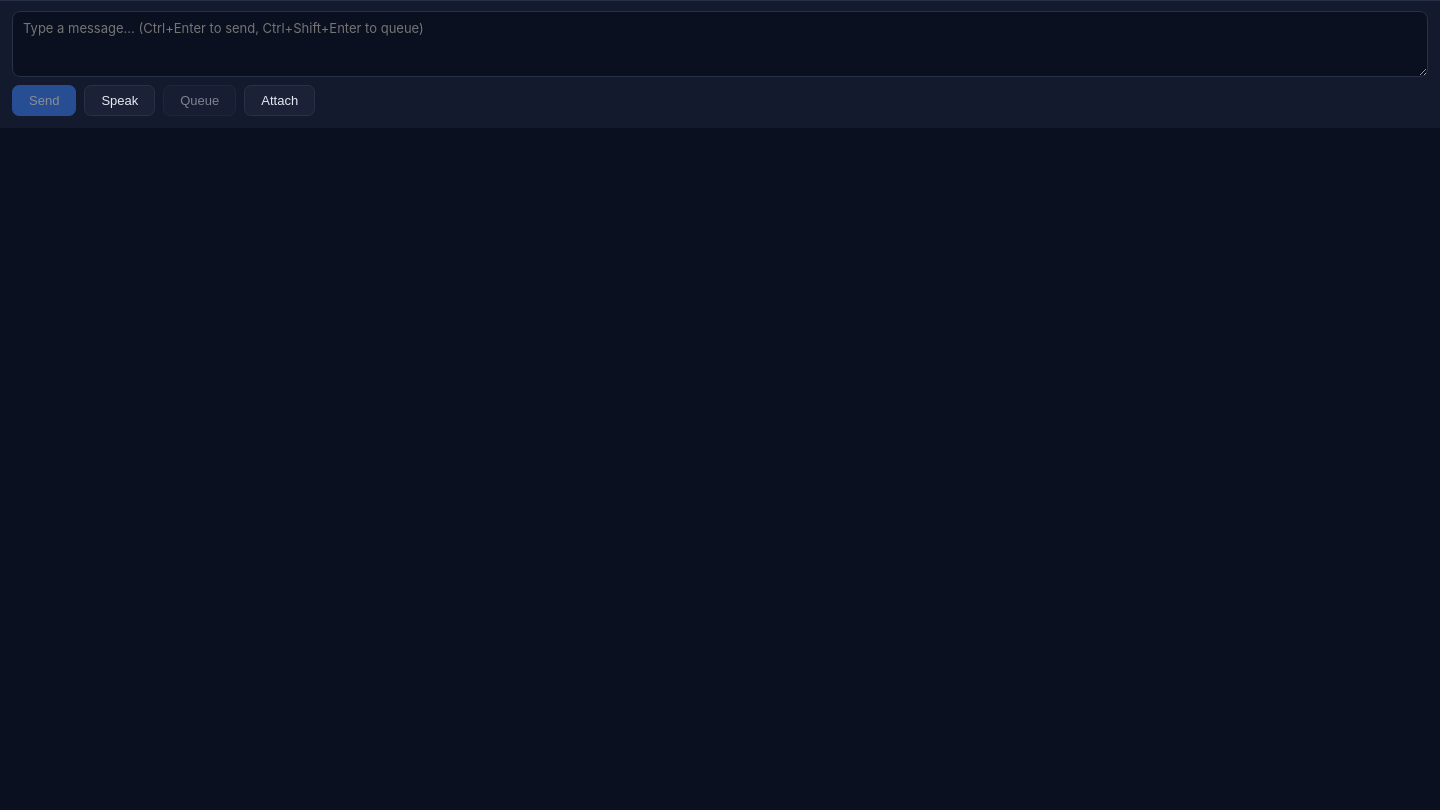
Cockpit Speak Send-direct (recording-stage) › hands the captured audio to the background pipeline with the typed text split at the caret, and releases the screen at once
Replace the text in the text box with placeholder "Type a message" with "AB" at (720, 44), box [12, 11, 1428, 77]
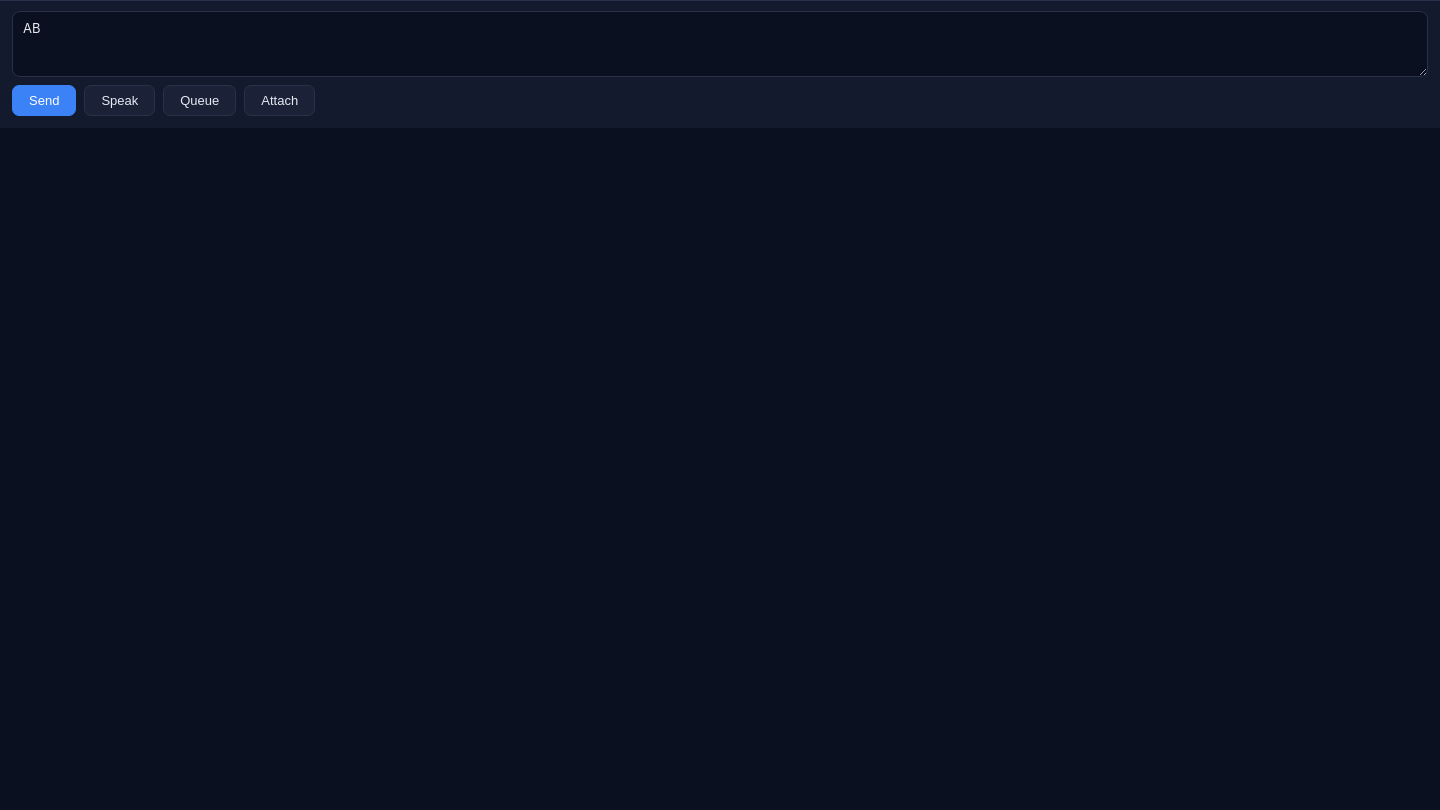
Click the button "Speak" at (120, 100), box [84, 85, 155, 116]
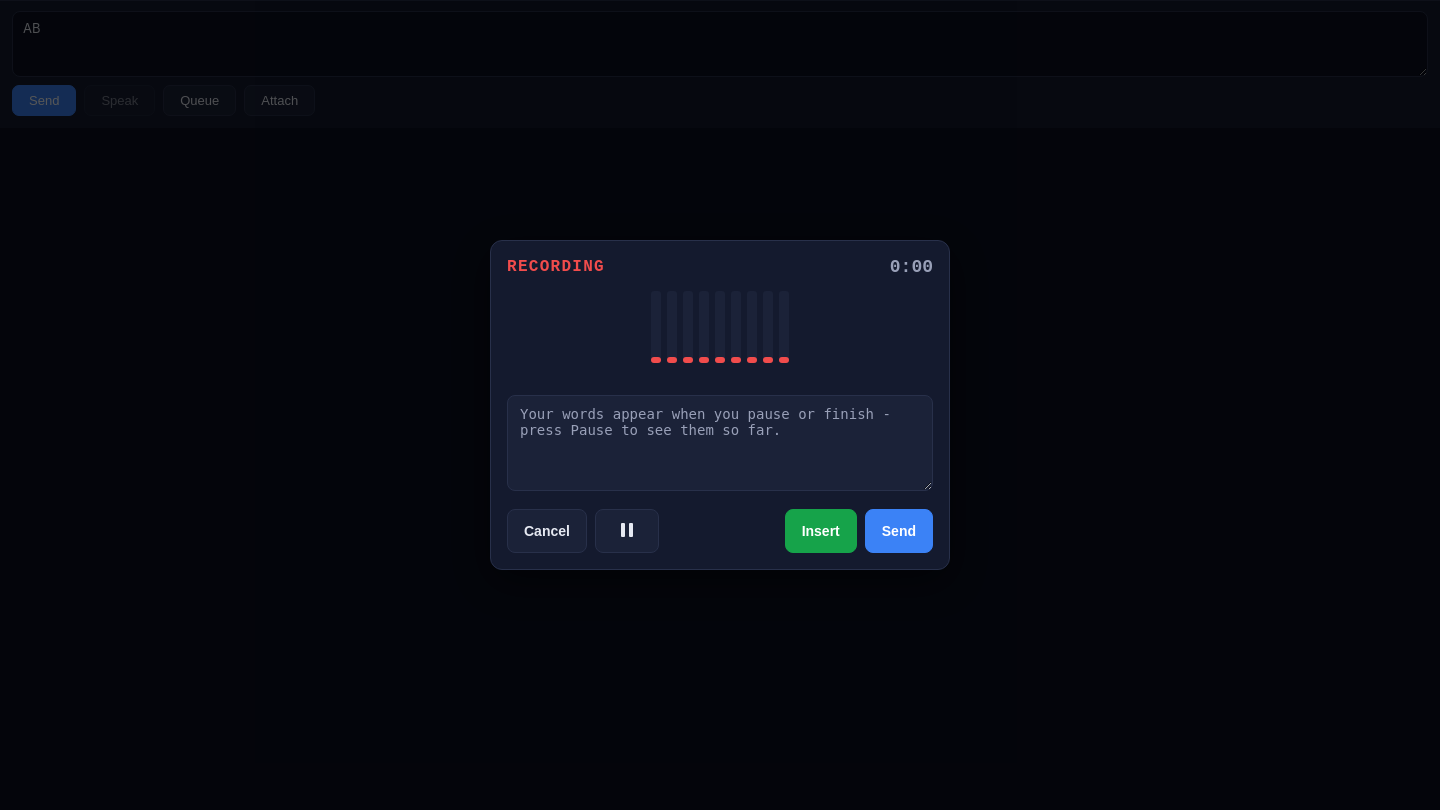
Result: the text "RECORDING" is shown at [507, 258, 605, 276]
Click the button "Send" at (899, 531), box [865, 509, 933, 553]
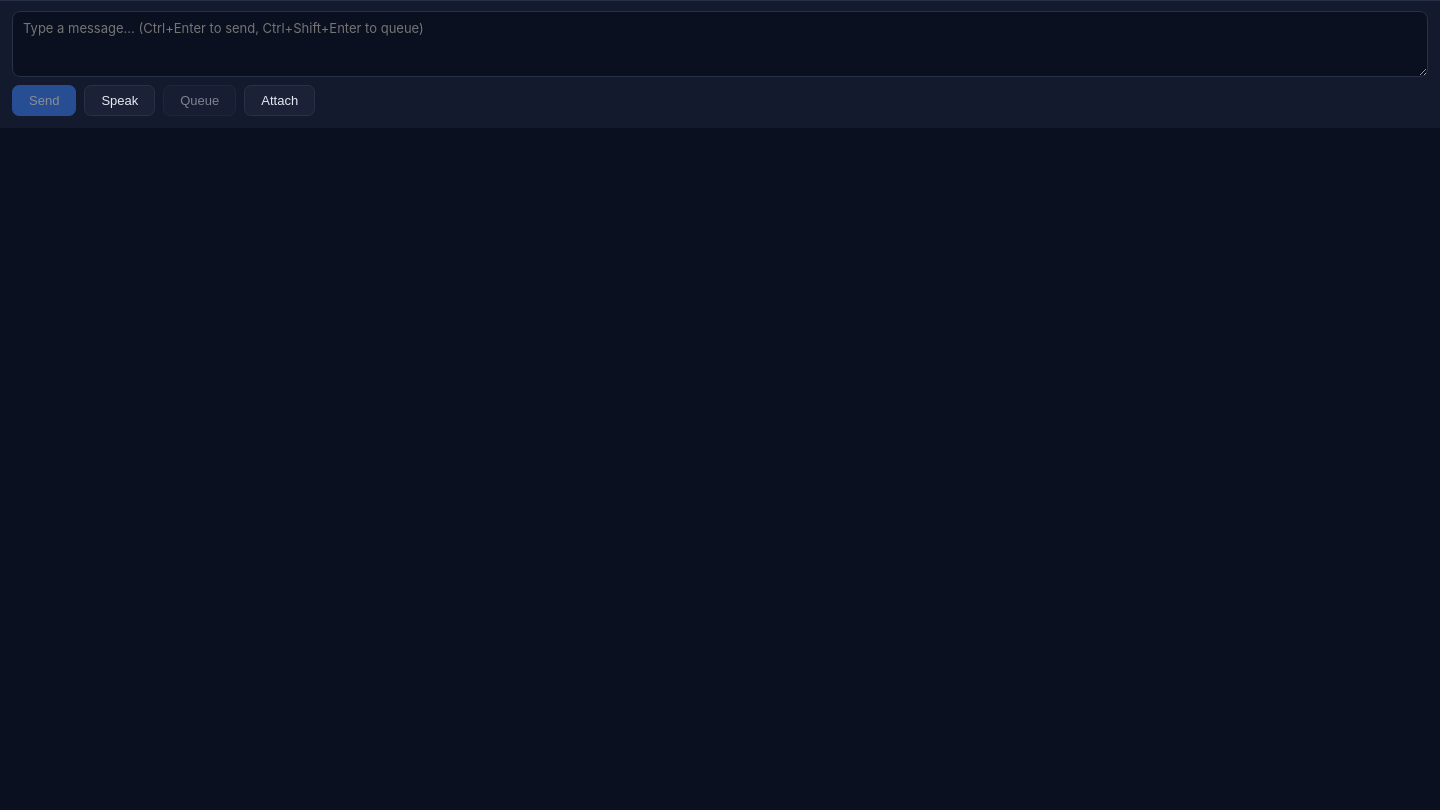
Result: the dialog "Dictate" is gone
Result: the text box with placeholder "Type a message" is empty at [12, 11, 1428, 77]
